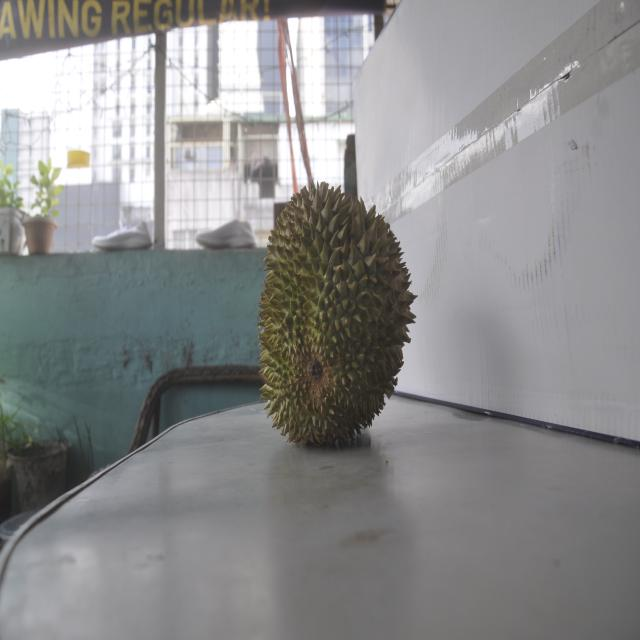mature: (258, 180, 408, 447)
